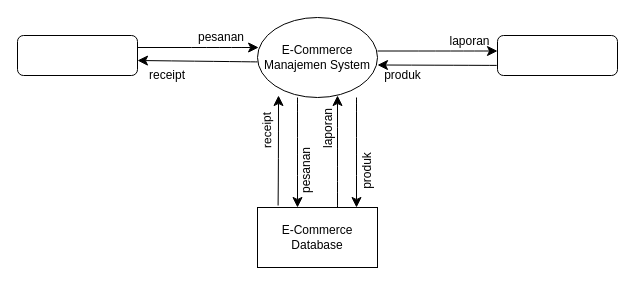
Some shapes in this 635 by 285 pixel diagram are drawn without their labels. The centre of each missing label's shape, as x and y in pixels:
Pembeli: pixel 77 55
Penjual: pixel 557 55
